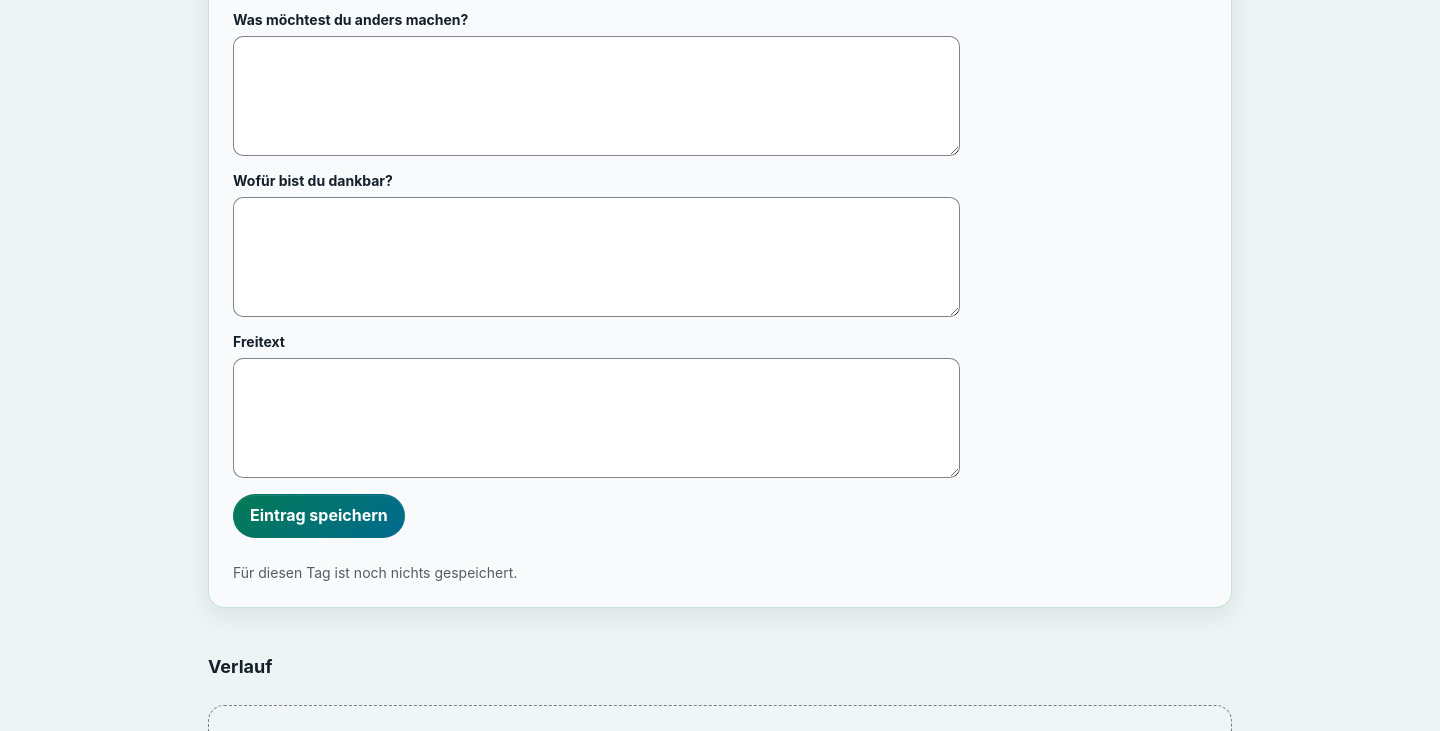
Test: JournalPage › blocks the day change while edits are unsaved and restores them on discard
(page scrolled)
Expected: the button "Eintrag speichern" is shown, [233,494,405,538]
In the text box labelled "Freitext": {"x": 596, "y": 418} [233,358,960,478], type "Noch nicht gespeichert"
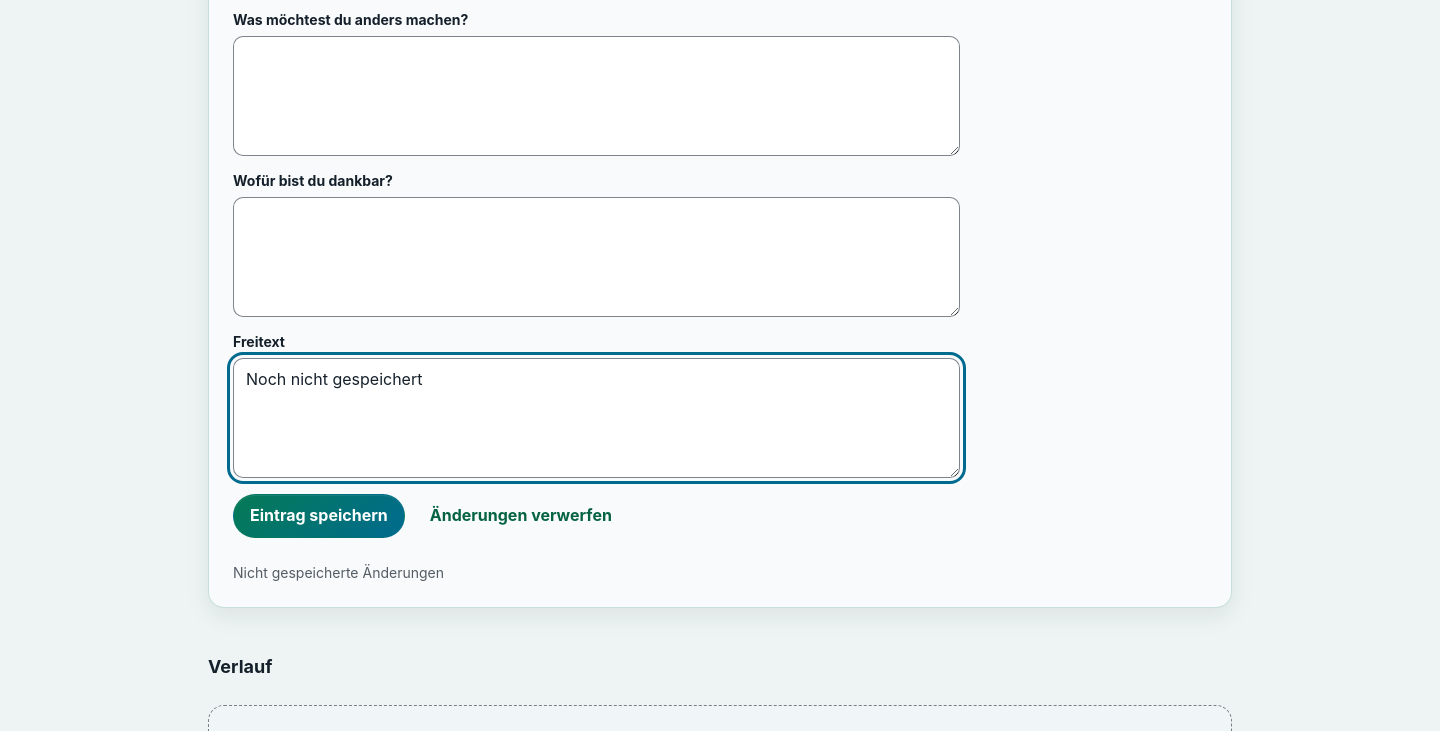
Click the button "Änderungen verwerfen": {"x": 521, "y": 516} [413,494,629,538]
(page scrolled)
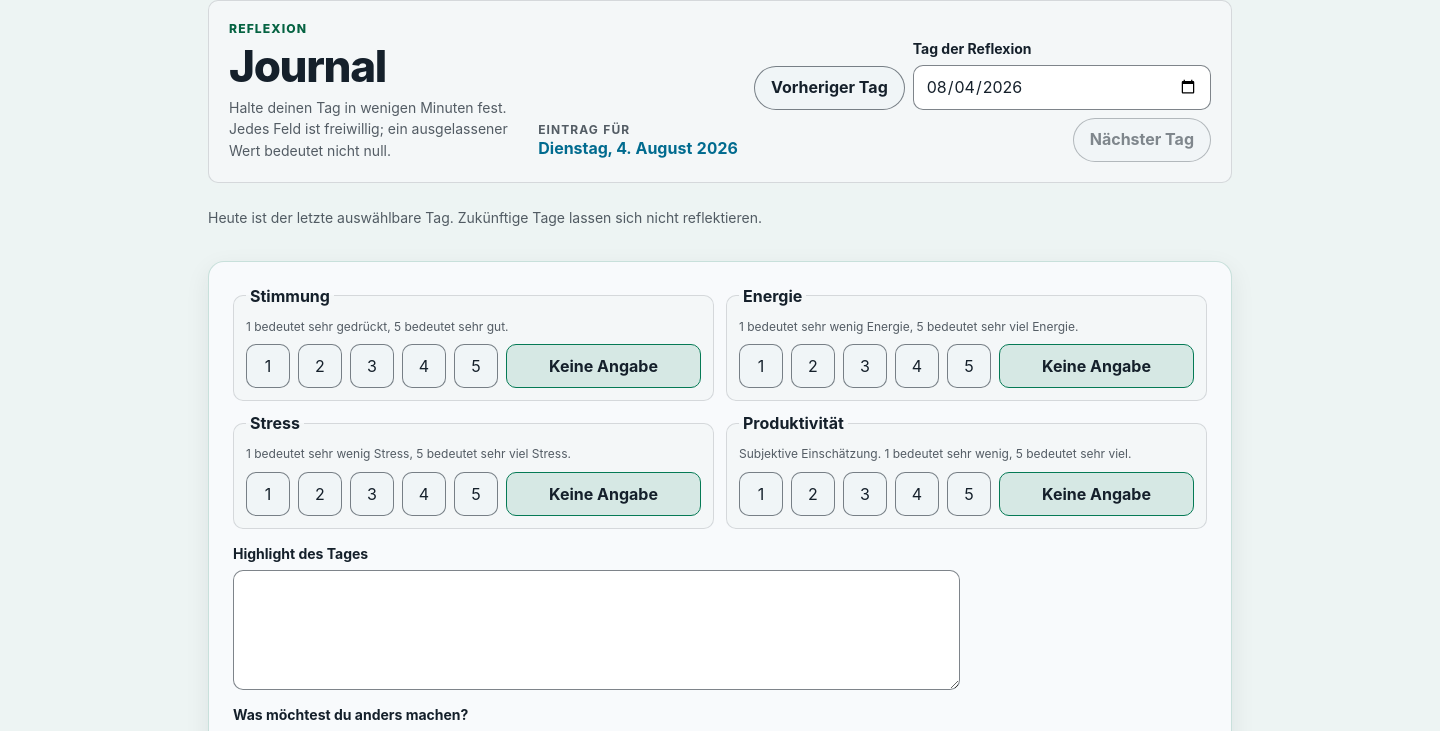
Result: the button "Vorheriger Tag" is enabled at [754,66,905,110]
